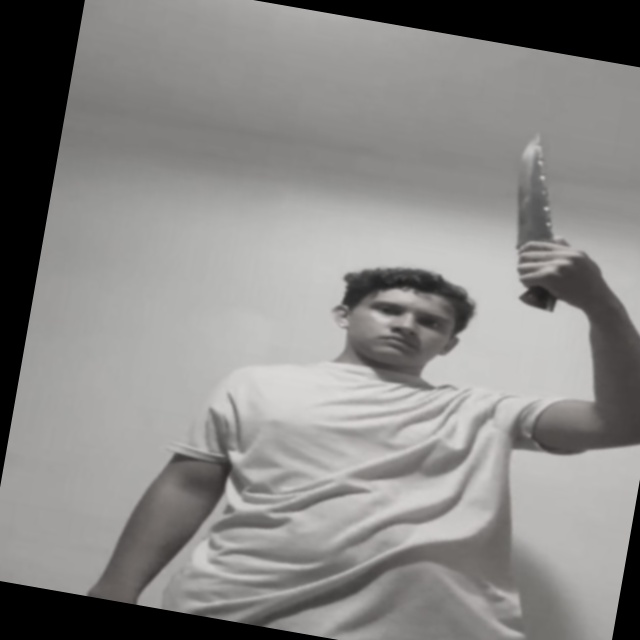Sharp-Object: (504, 131, 576, 253)
